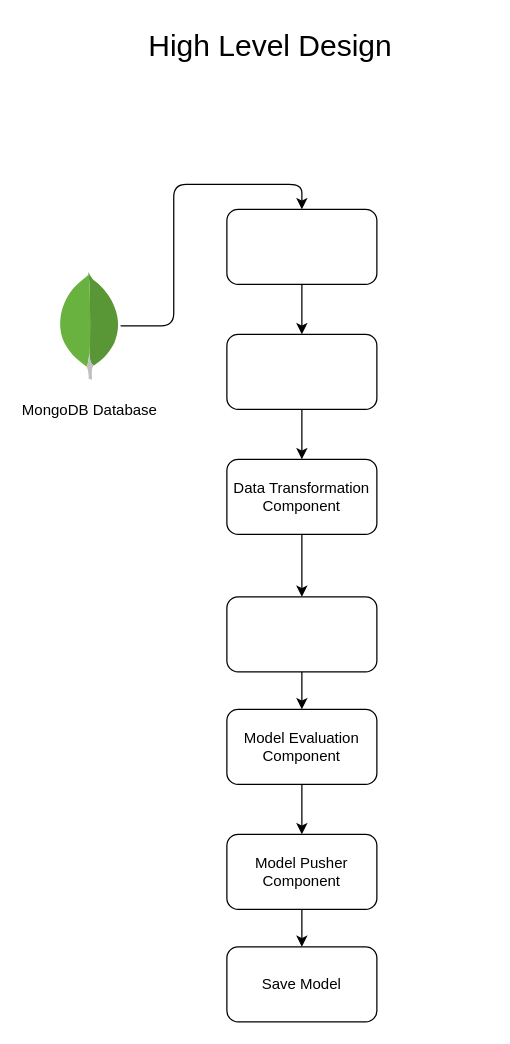
The diagram is 510 pixels wide and 1044 high, and some of its shapes have lost their labels. Each missing label, with the box of its shape:
Data Ingestion Component: (226, 208, 377, 284)
Data Validation Component: (226, 333, 377, 409)
Model Trainer Component: (226, 596, 377, 672)
